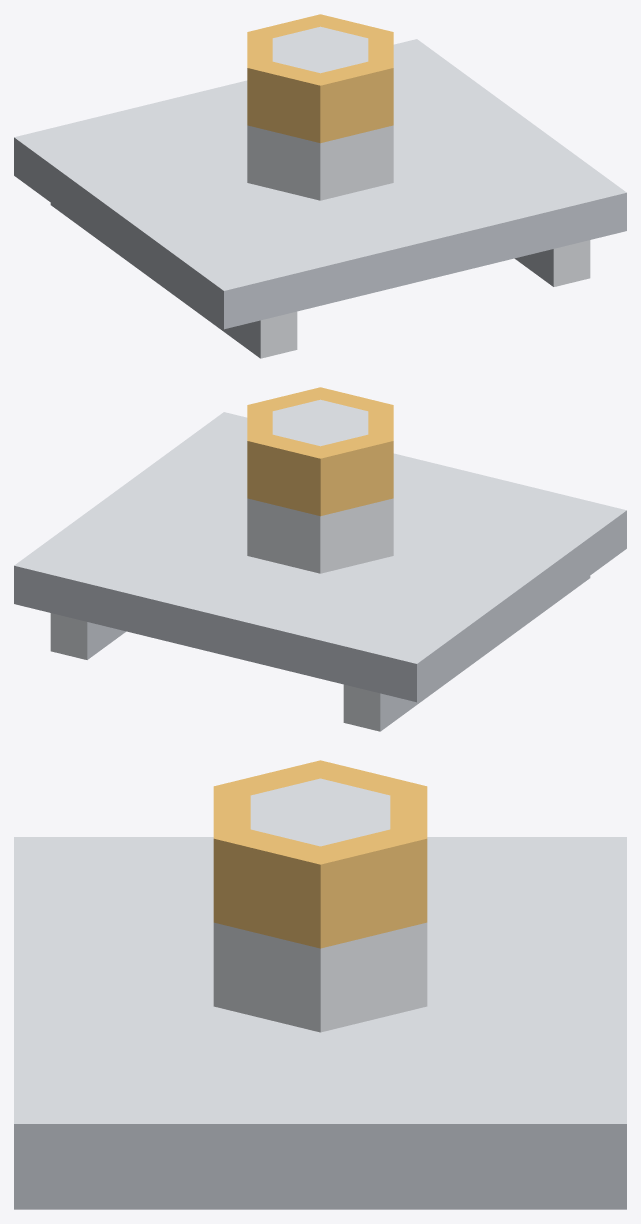
Rendered from barrels.glb.
3 renders of one model, top to bottom at view 1: azimuth 30°, elevation 25°; view 2: azimuth 150°, elevation 25°; view 3: azimuth 270°, elevation 25°, orthographic. The views are drawn at different scales.
Visible parts, largest first — view 1: barrels, barrel; view 2: barrels, barrel; view 3: barrels, barrel.
Part boxes in pixels (box(x1,y1,x2,y2)): barrels: box(14, 39, 626, 358); barrel: box(247, 14, 393, 200); barrels: box(14, 412, 626, 731); barrel: box(247, 387, 393, 573); barrels: box(14, 837, 626, 1209); barrel: box(213, 760, 427, 1032).
Size of the model in its own units: 0.55 by 0.25 by 0.4964.
